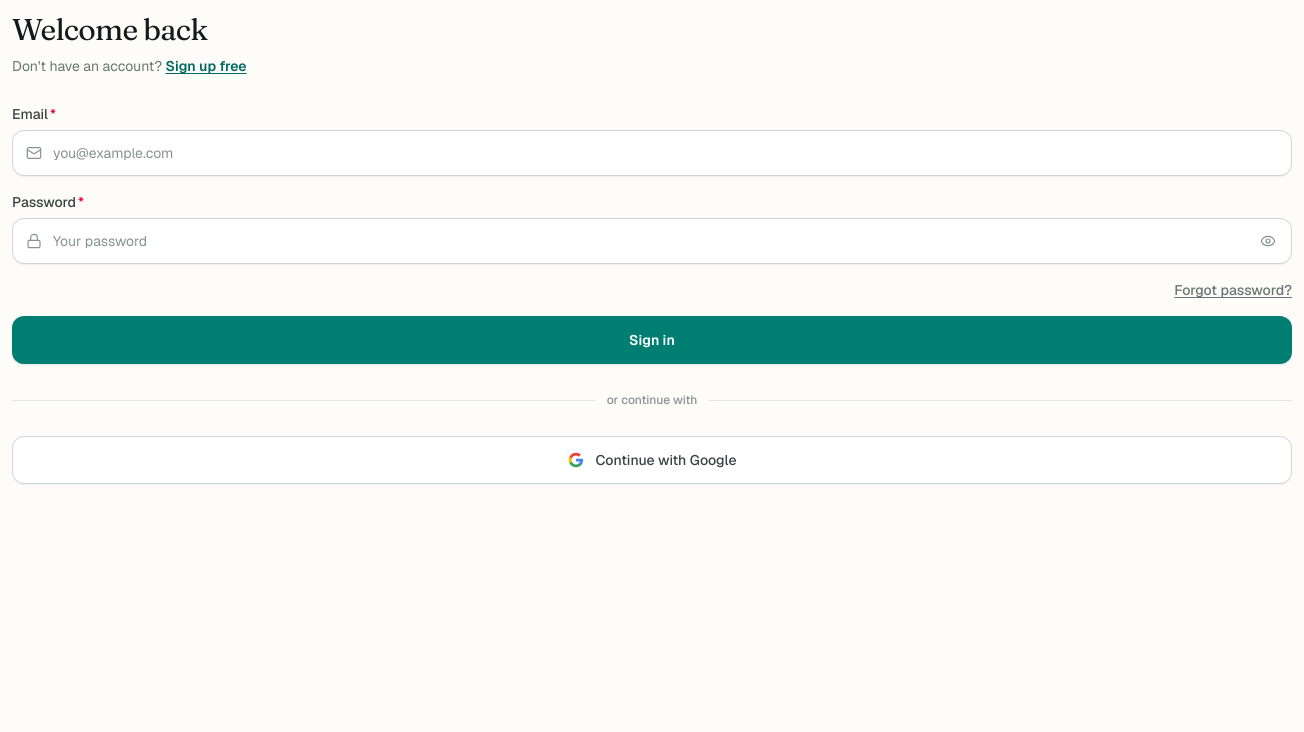
Test: /signin › shows Supabase's ambiguous rejection verbatim and stays put
Type "ada@example.com" into the field labelled "Email*" at (652, 153), box [12,130,1292,176]
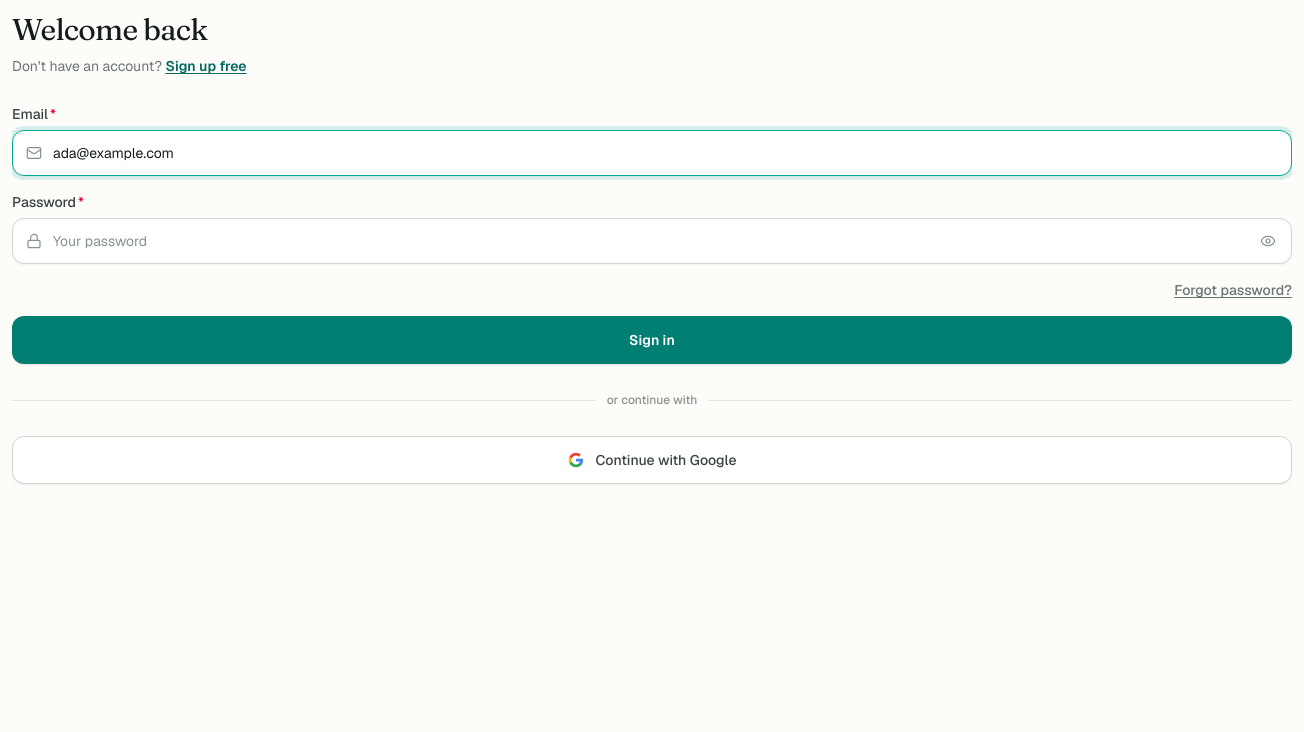
Type "wrong" into the password field labelled "Password*" at (652, 241), box [12,218,1292,264]
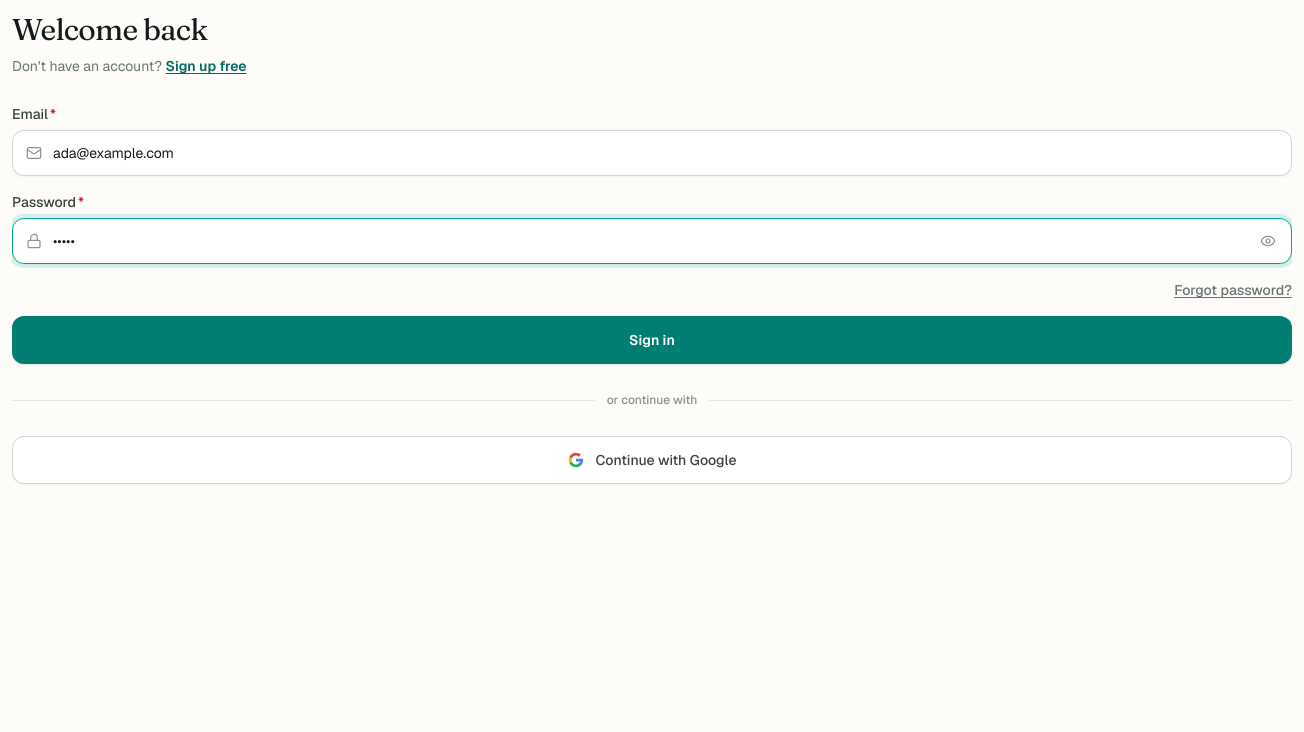
Click the button "Sign in" at (652, 340), box [12,316,1292,364]
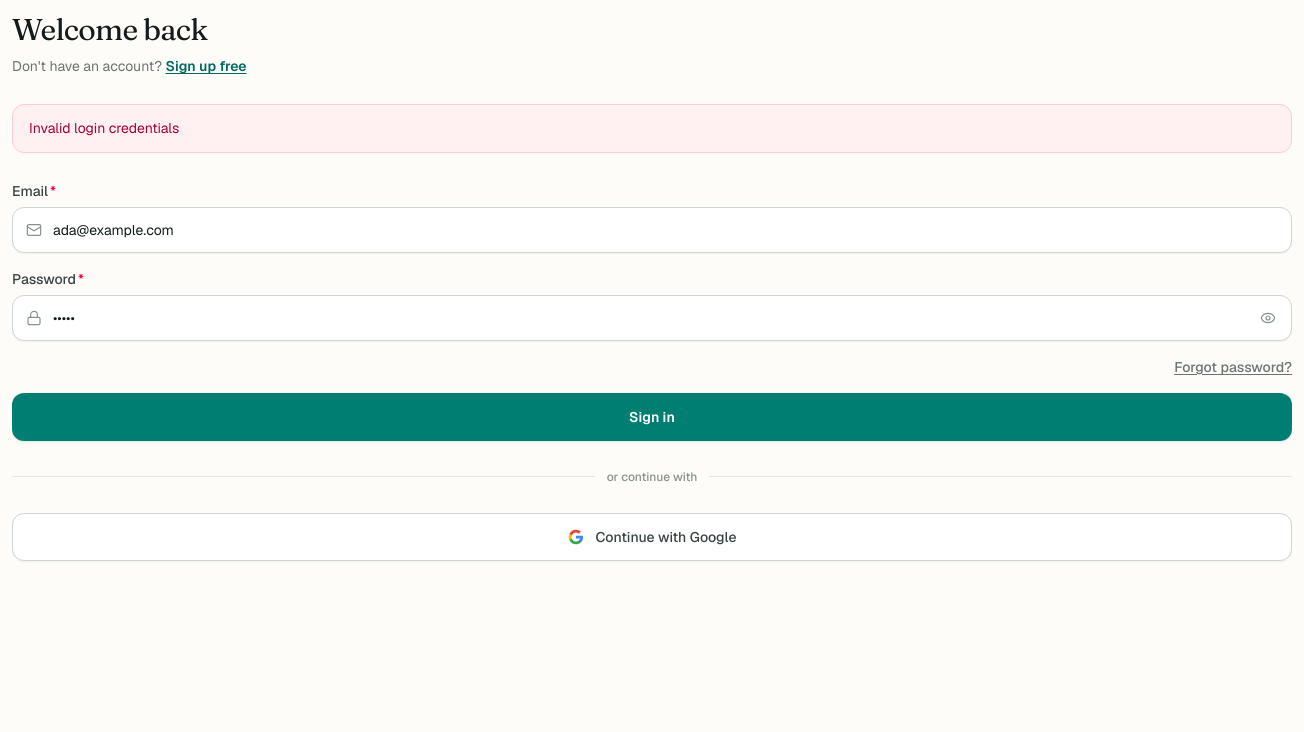
Check: the button "Sign in" is enabled, box [12,393,1292,441]
Check: the message reads "Invalid login credentials", box [29,119,179,137]
